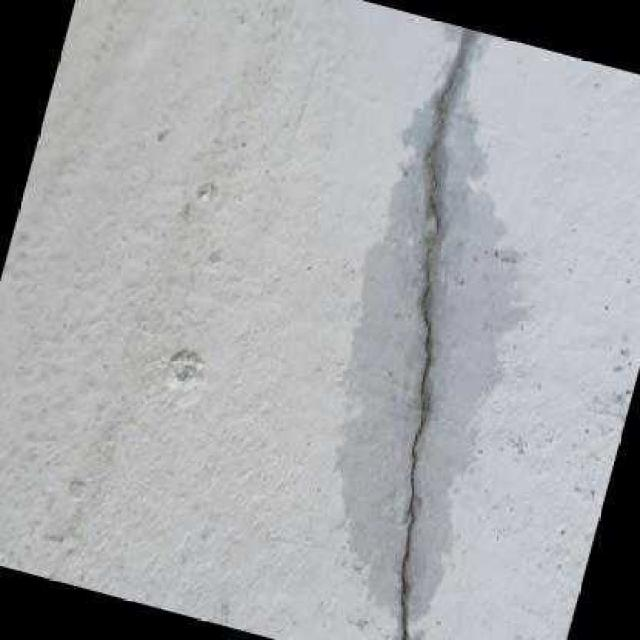D00: (398, 63, 461, 640)
